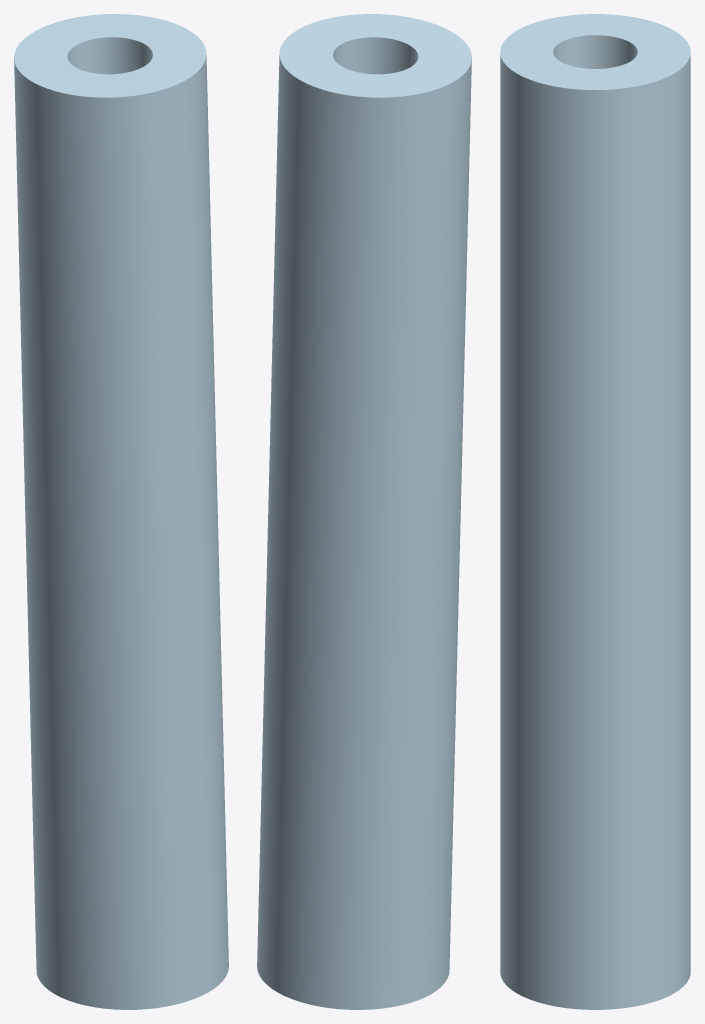
The model's file is Robot_Master Copy 1 - Part 1 (19).gltf.
3 views of the same model, side by side, from view 1: azimuth 30°, elevation 25°; view 2: azimuth 150°, elevation 25°; view 3: azimuth 270°, elevation 25° (orthographic).
Visible parts, largest first — view 1: Part 1; view 2: Part 1; view 3: Part 1.
Part boxes in pixels (box(x1,y1,x2,y2)): Part 1: box(14, 14, 228, 1009); Part 1: box(257, 14, 471, 1009); Part 1: box(500, 14, 690, 1009).
Bounding box in the file's own units: 0.00794 × 0.037 × 0.00699.
